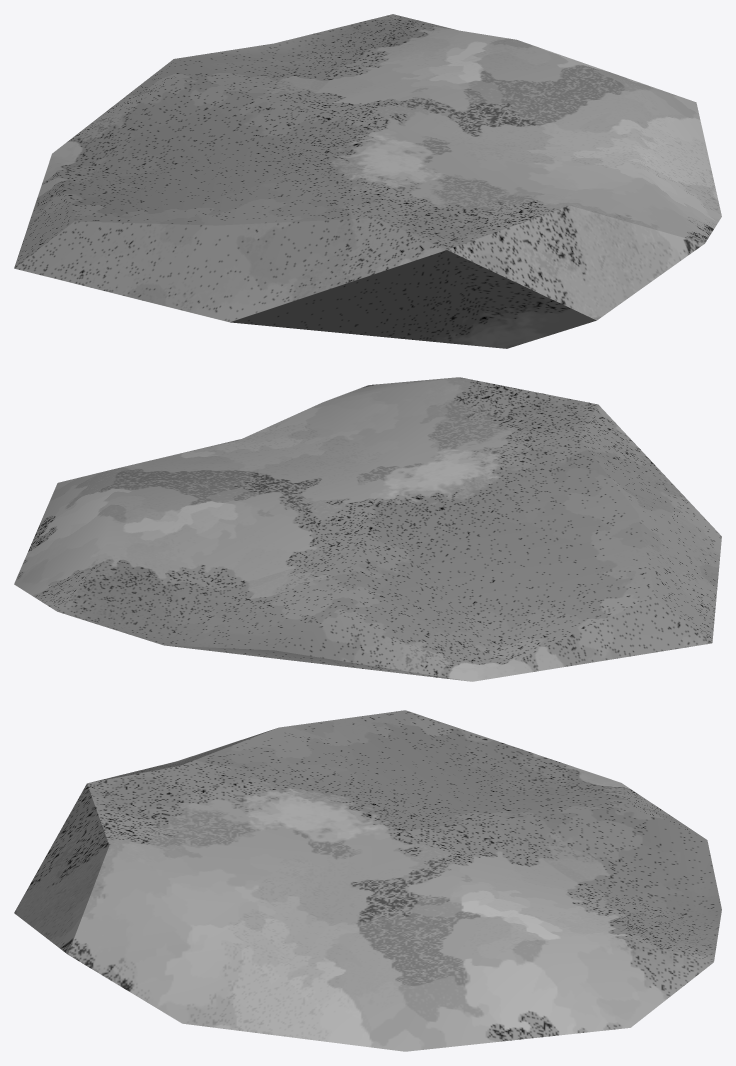
The model's file is filler rock 4.fbx.
3 views of the same model, one above another, from view 1: azimuth 30°, elevation 25°; view 2: azimuth 150°, elevation 25°; view 3: azimuth 270°, elevation 25° (orthographic). The views are drawn at different scales.
Parts seen in each view (by area): view 1: rock.004; view 2: rock.004; view 3: rock.004.
Boxes of the visible parts, x1,y1,x2,y2 form: rock.004: (14, 14, 721, 348); rock.004: (14, 377, 721, 681); rock.004: (14, 710, 721, 1051).
Bounding box in the file's own units: 106 × 19.83 × 94.
